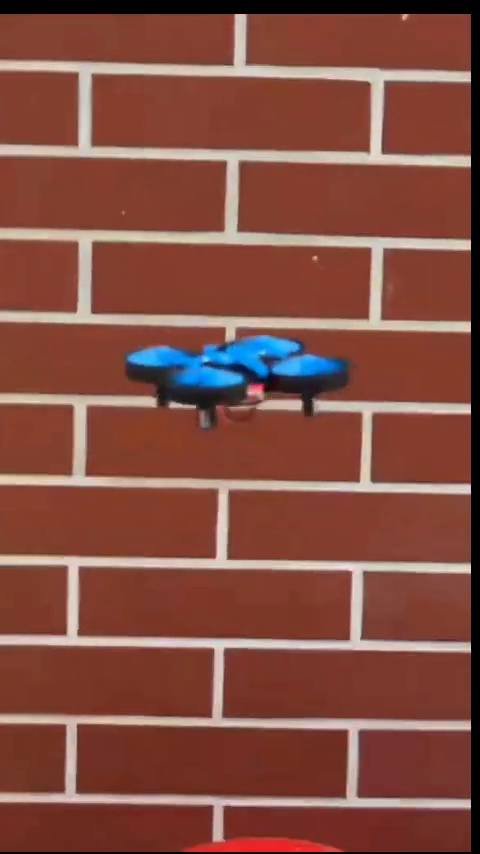drone: (132, 331, 345, 440)
